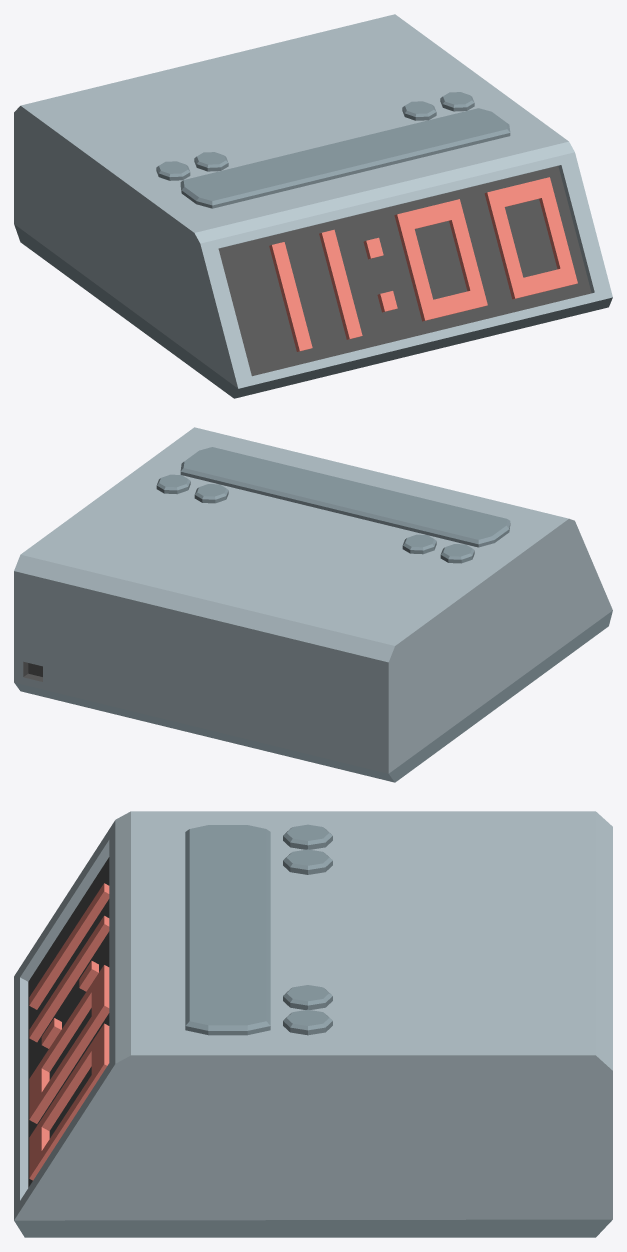
The model's file is DigitalClock.fbx.
3 renders of one model, top to bottom at view 1: azimuth 30°, elevation 25°; view 2: azimuth 150°, elevation 25°; view 3: azimuth 270°, elevation 25°, orthographic. The views are drawn at different scales.
Visible parts, largest first — view 1: Digital_clock_Cube; view 2: Digital_clock_Cube; view 3: Digital_clock_Cube.
Part boxes in pixels (left/top/right/bottom): Digital_clock_Cube: left=14, top=14, right=612, bottom=398; Digital_clock_Cube: left=14, top=427, right=612, bottom=782; Digital_clock_Cube: left=14, top=811, right=612, bottom=1237.
Bounding box in the file's own units: 998 × 379 × 1035.
